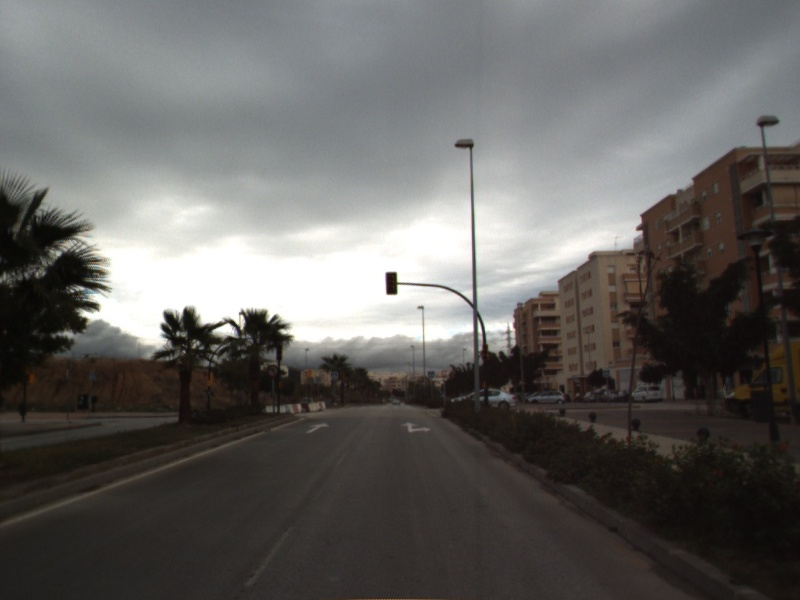STRAIGHT: (304, 420, 332, 435)
STRAIGHT_RIGHT: (399, 420, 433, 435)
